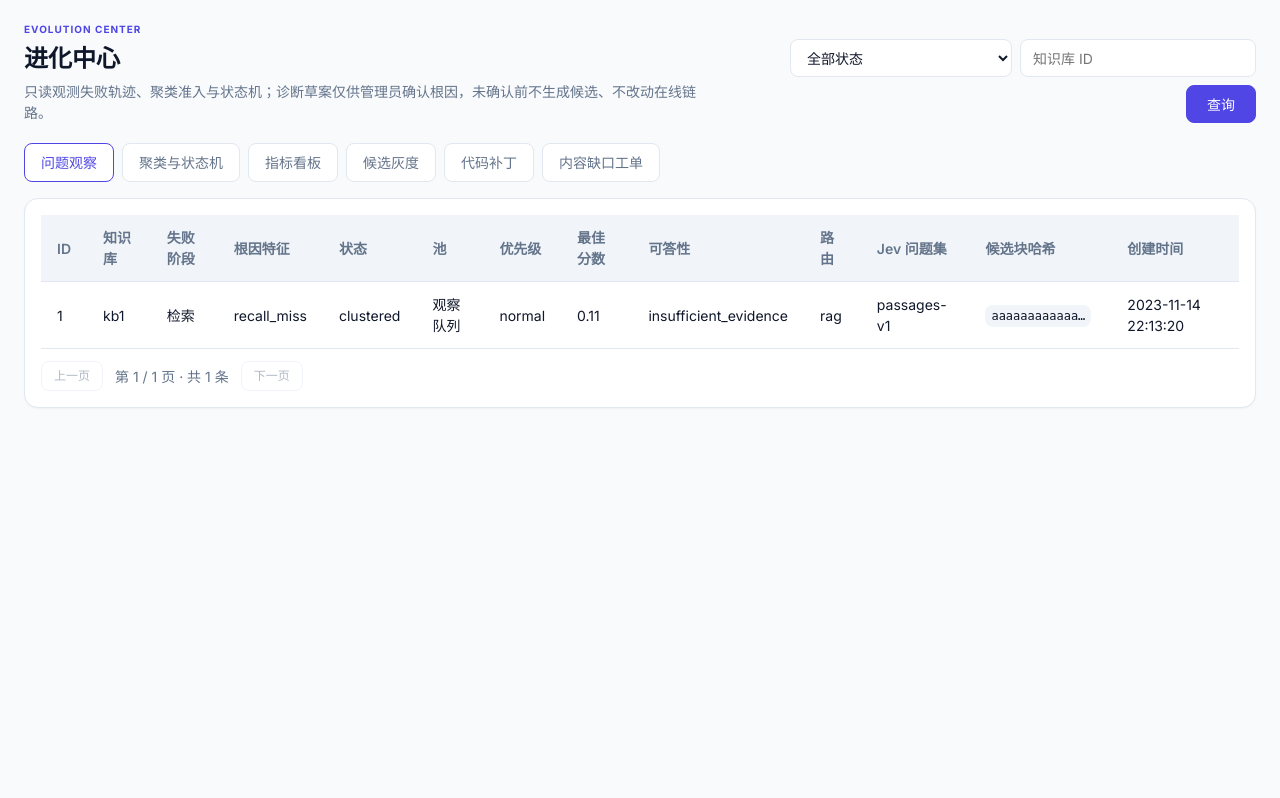
EvolutionCenterView member-draft review › renders a legacy cluster-level draft alongside the member drafts
Click the button with test id "tab-clusters": (181, 162) x1=122 y1=143 x2=240 y2=182
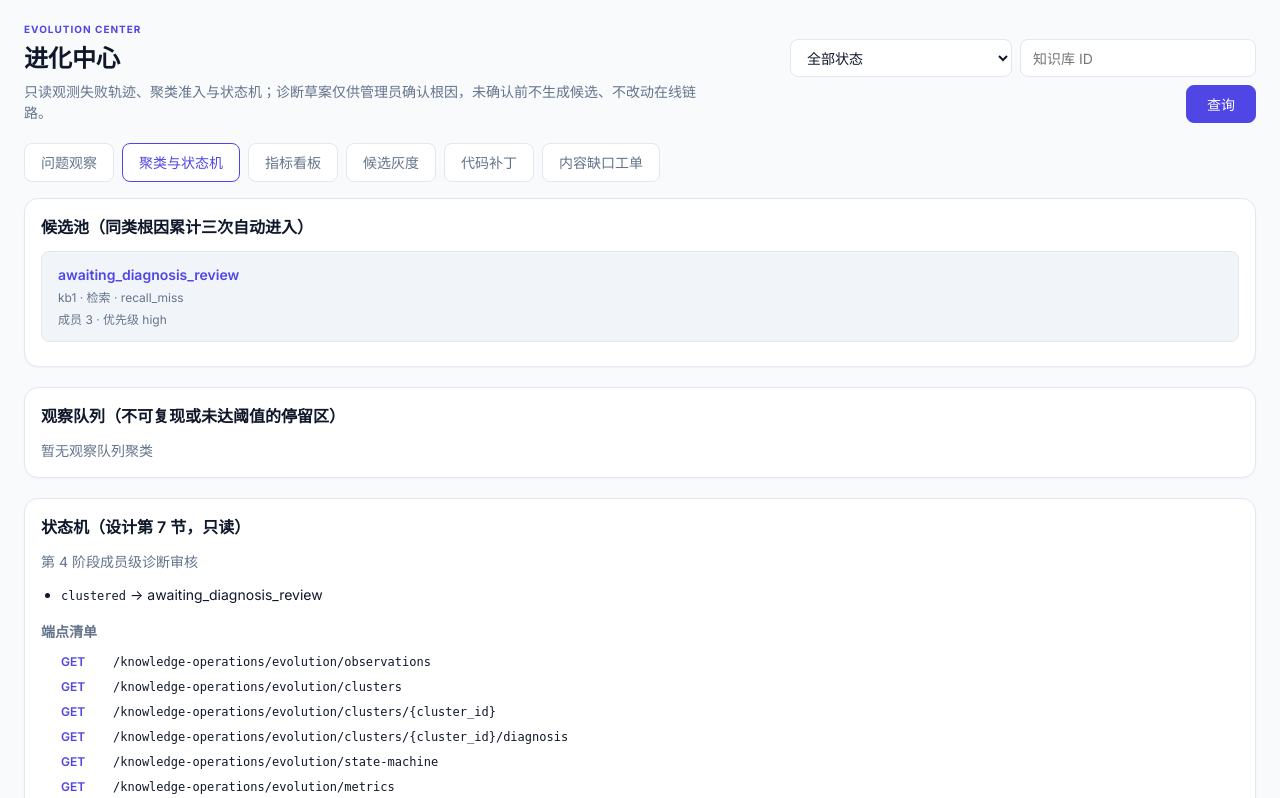
Click the button with test id "cluster-card": (149, 274) x1=41 y1=251 x2=1239 y2=342
(page scrolled)
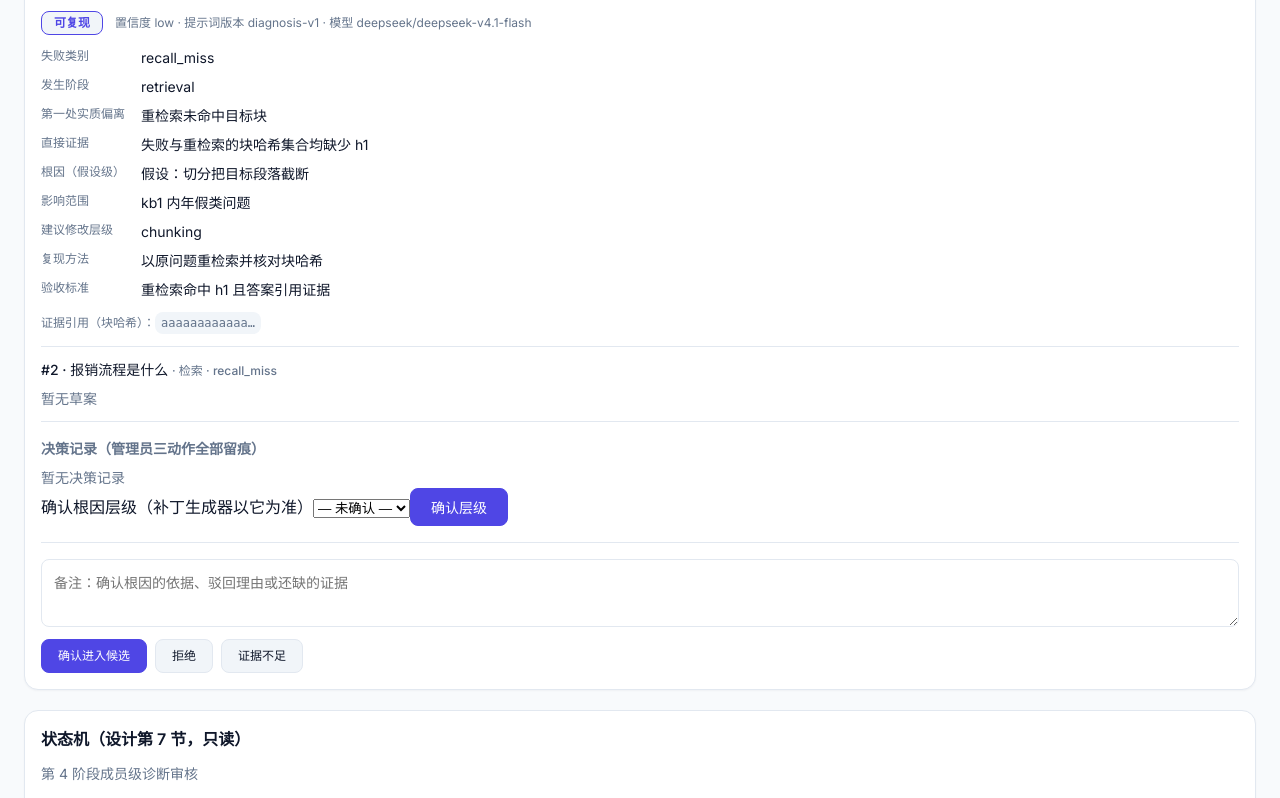
Check: the text with test id "cluster-draft-field-root_cause" reads "假设：切分把目标段落截断", box x1=141 y1=165 x2=309 y2=182
Check: the text with test id "member-draft-empty" reads "暂无草案", box x1=41 y1=390 x2=97 y2=407
